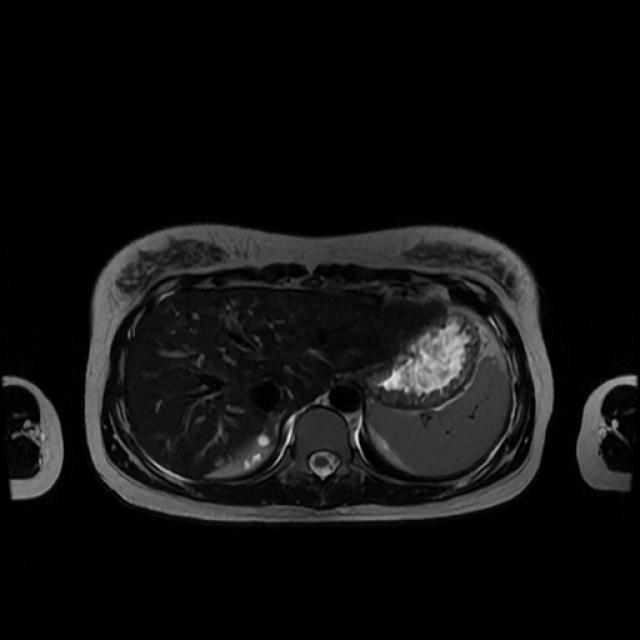sag: (204, 431, 276, 479)
sol: (366, 419, 414, 474)
